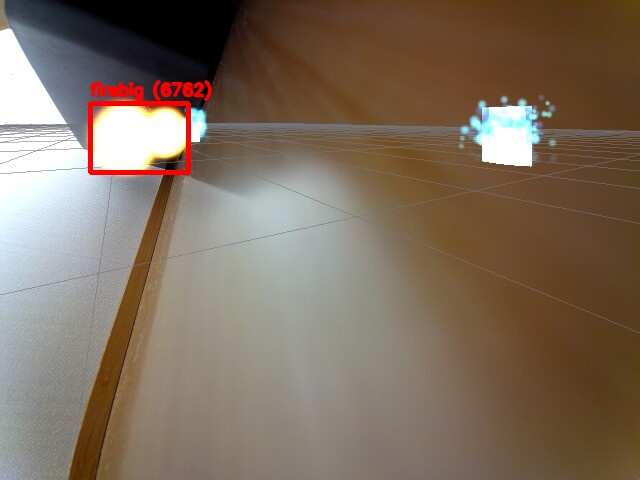firebig: (90, 103, 188, 172)
